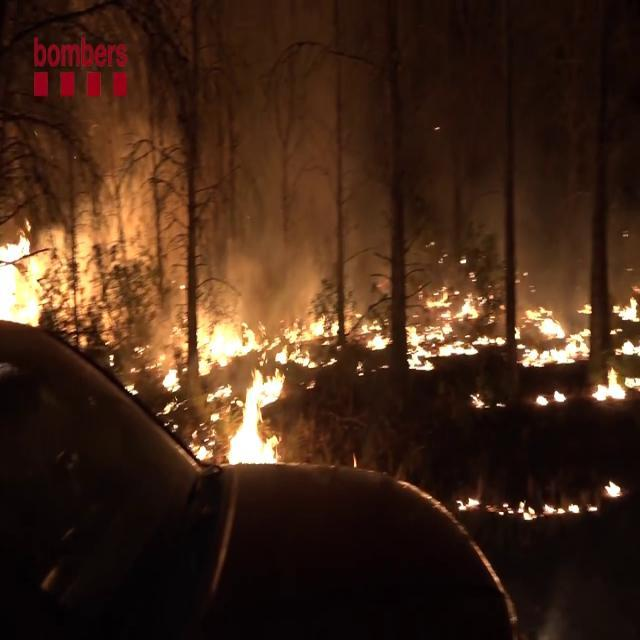Fire: (163, 300, 288, 464), (0, 221, 83, 332), (405, 287, 488, 367), (594, 280, 640, 406), (517, 304, 587, 369), (592, 360, 640, 406)
Smoke: (117, 2, 638, 298)
